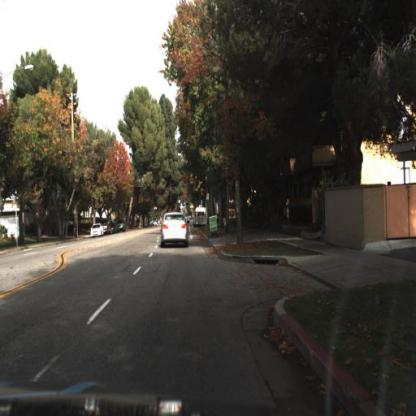car: (158, 204, 192, 251), (86, 219, 107, 240)
